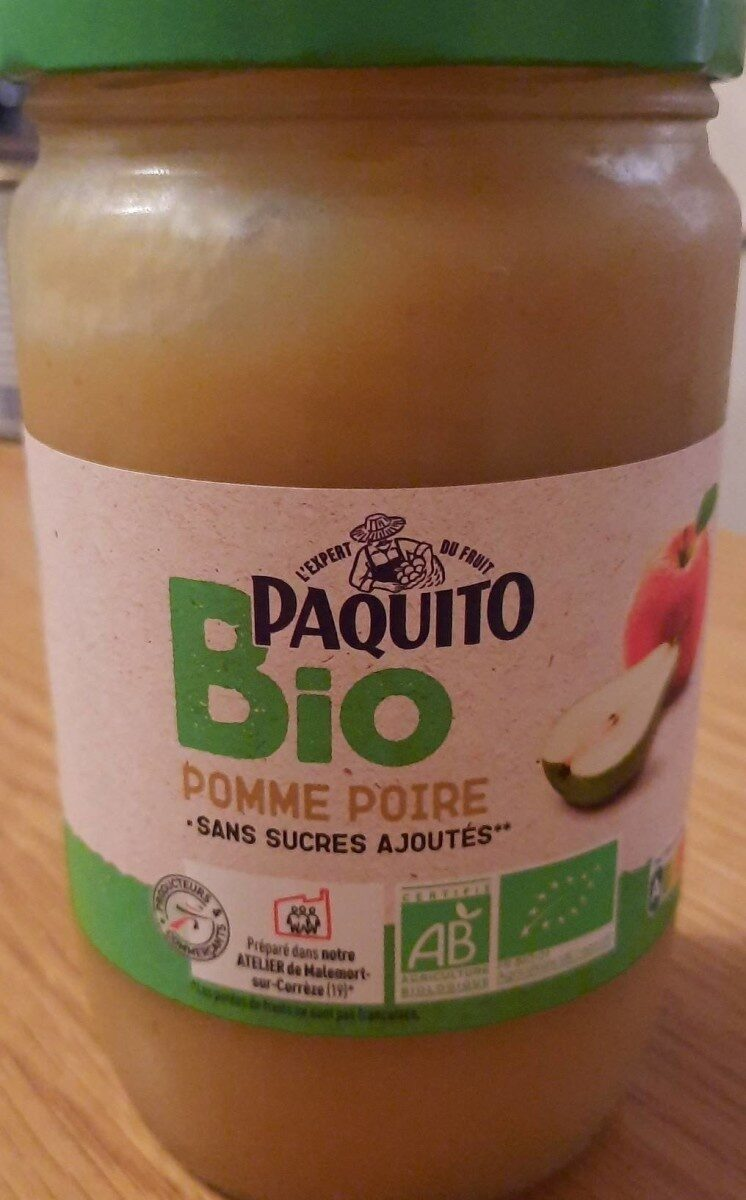Bocal compote pommes poire BIO SSA: (37, 60, 709, 1140)
